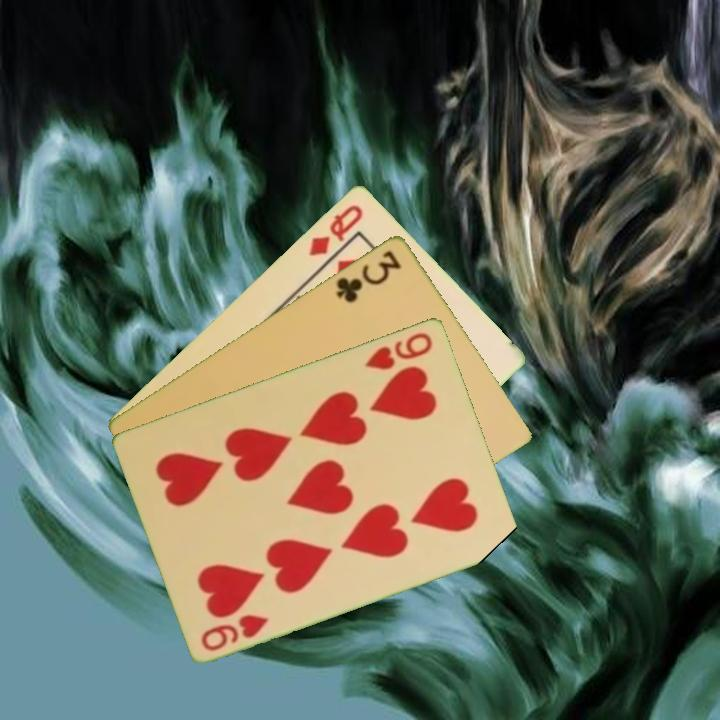3c: (332, 246, 405, 306)
9h: (361, 328, 436, 373), (197, 610, 272, 654)
Qd: (305, 200, 366, 259)
